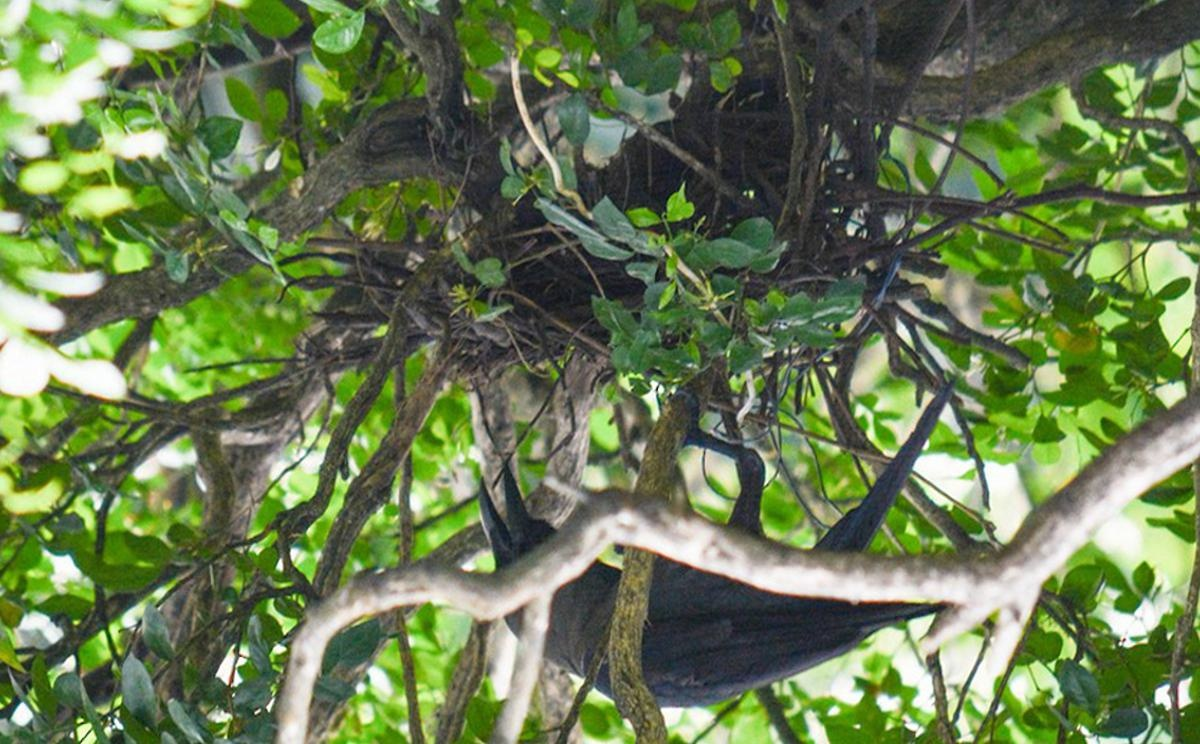crow: (468, 461, 1007, 715)
